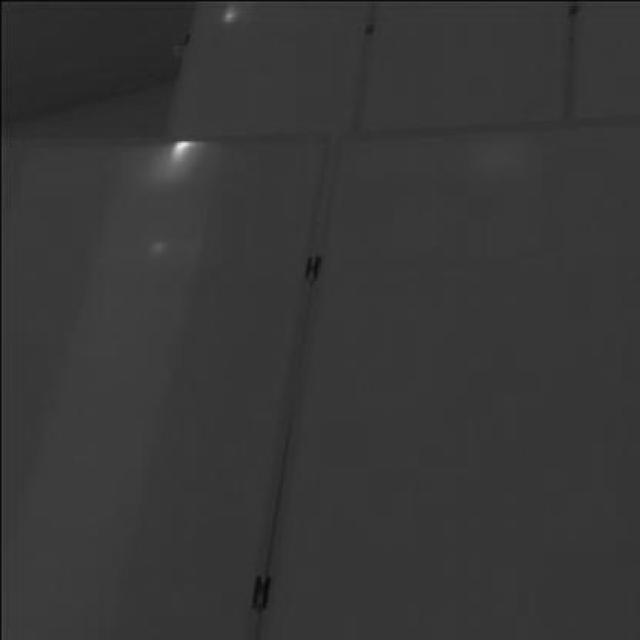hotspot: (150, 134, 208, 183)
